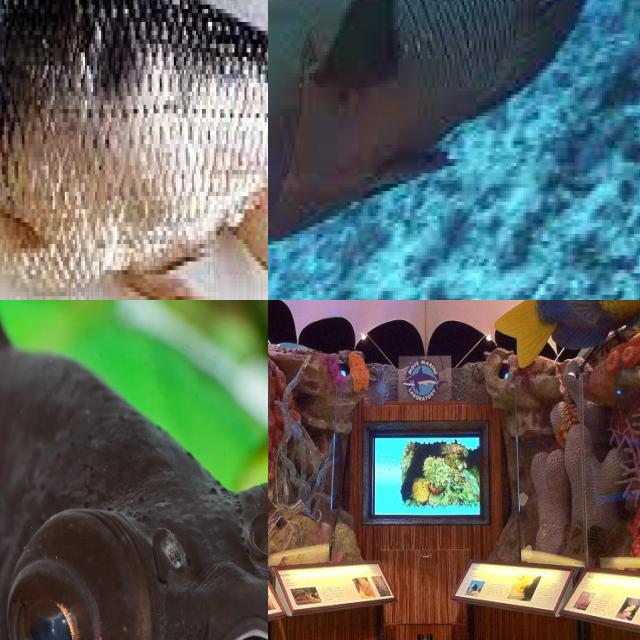fish: (268, 0, 640, 287), (0, 0, 268, 300), (497, 300, 640, 371)
